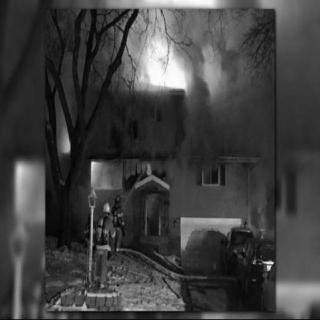Fire: (135, 30, 187, 89), (16, 161, 44, 217)
Smoke: (184, 100, 232, 168)
